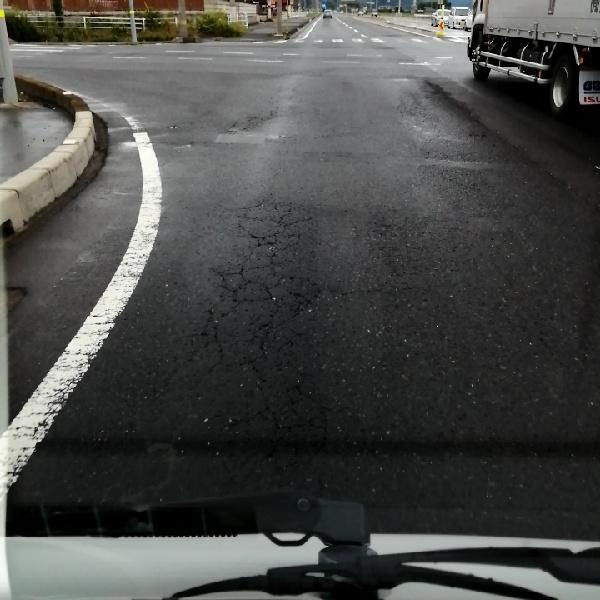D20: (167, 162, 359, 429)
